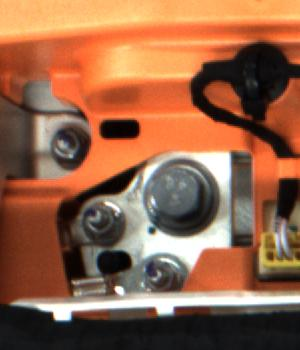nut_b: (146, 157, 217, 236)
screw_s: (77, 197, 118, 242), (45, 125, 82, 168), (138, 256, 176, 292)
